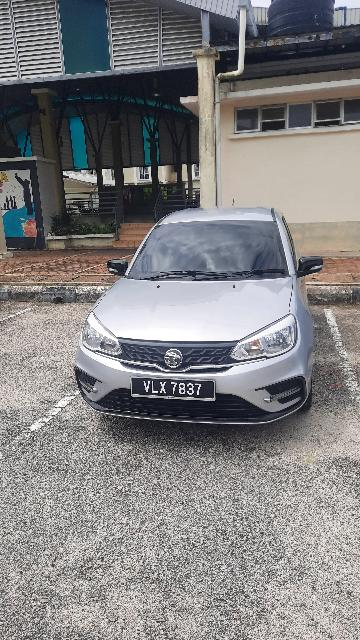License_Plate: (131, 375, 219, 405)
car: (75, 204, 318, 428)
